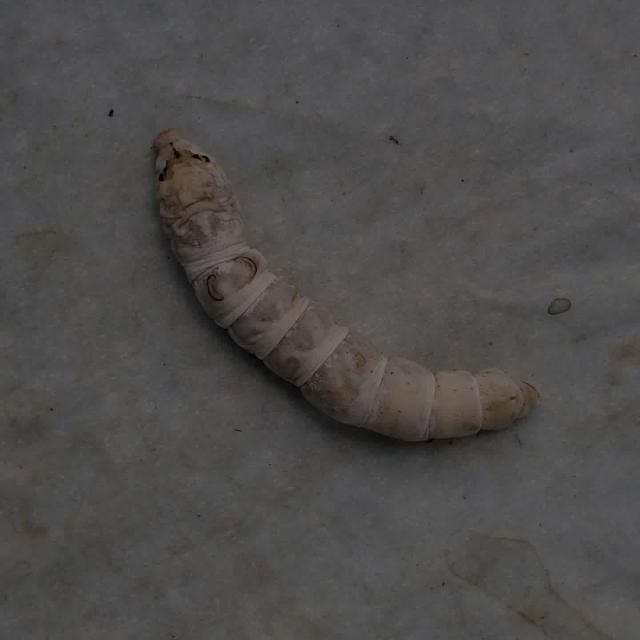Grasserie: (146, 127, 546, 460)
